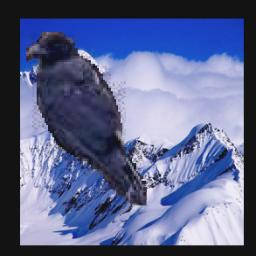Crow: (26, 32, 147, 206)
